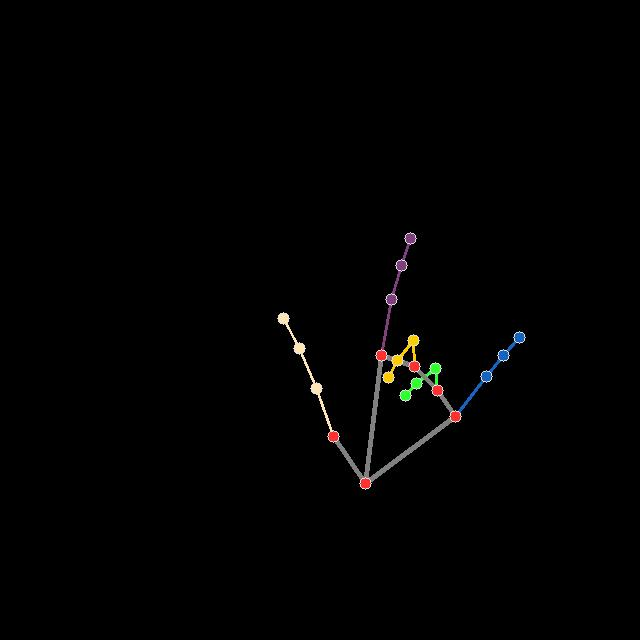spiderman: (274, 230, 526, 494)
